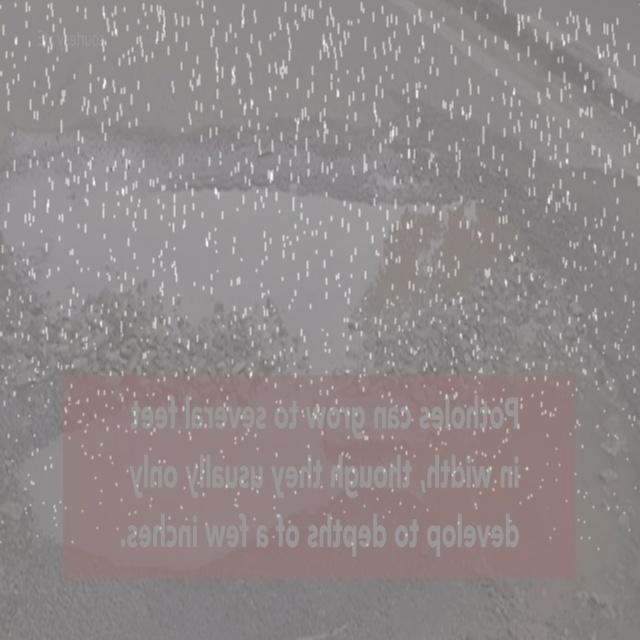Pothole: (0, 163, 539, 366)
